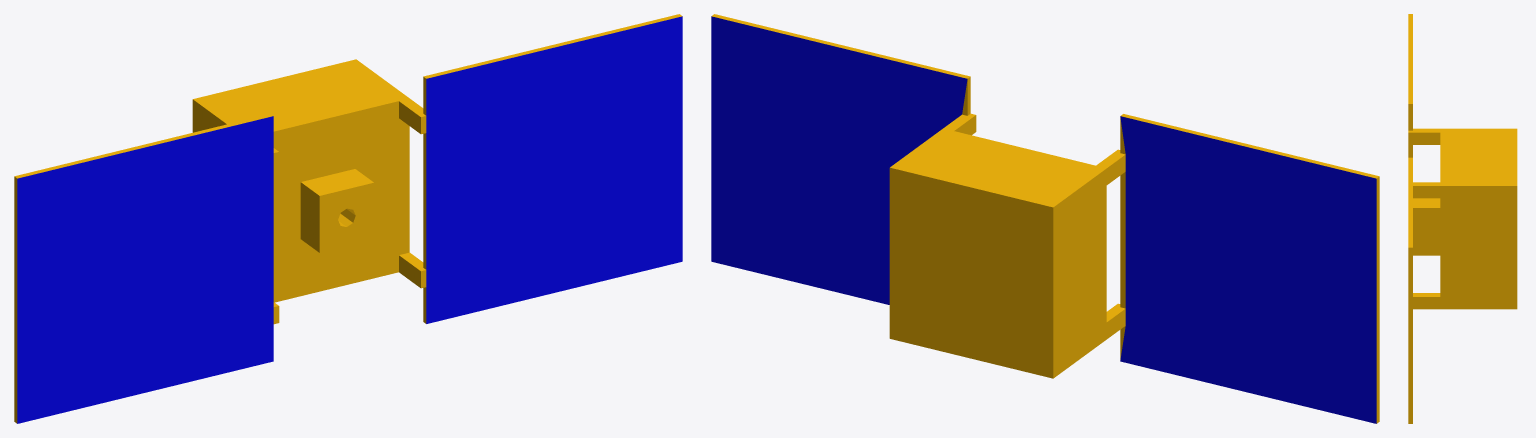
Rendered from Plateforme OTV.dae.
The picture shows the model from 3 angles, left to right: view 1: azimuth 30°, elevation 25°; view 2: azimuth 150°, elevation 25°; view 3: azimuth 270°, elevation 25°; orthographic projection. The views are drawn at different scales.
Visible parts, largest first — view 1: Component1_5 (×4); view 2: Component1_5 (×3); view 3: Component1_5 (×2).
Part boxes in pixels (left/top/right/bottom): Component1_5 (×4): left=14, top=14, right=682, bottom=423; Component1_5 (×3): left=711, top=14, right=1379, bottom=423; Component1_5 (×2): left=1408, top=14, right=1517, bottom=423.
Size of the model in its own units: 48032 by 9827 by 16929.
